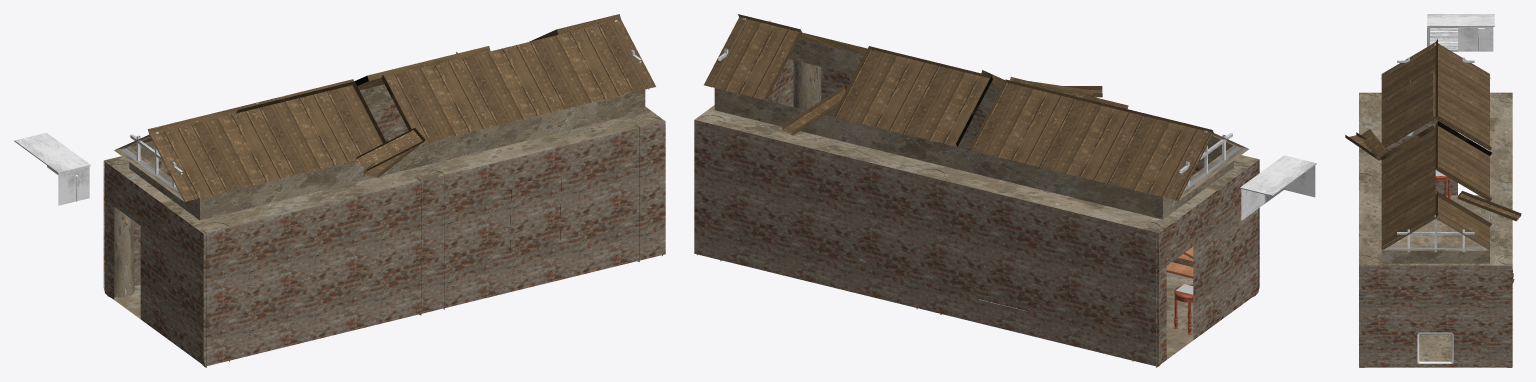
Rendered from AbandonedStorage.fbx.
The picture shows the model from 3 angles, left to right: view 1: azimuth 30°, elevation 25°; view 2: azimuth 150°, elevation 25°; view 3: azimuth 270°, elevation 25°; orthographic projection. The views are drawn at different scales.
Parts seen in each view (by area): view 1: NonBaked.033; view 2: NonBaked.033; view 3: NonBaked.033.
Part boxes in pixels (x1,y1,x2,y2): NonBaked.033: [14, 14, 665, 367]; NonBaked.033: [694, 14, 1316, 367]; NonBaked.033: [1345, 14, 1521, 367].
Size of the model in its own units: 1107 by 378 by 387.
